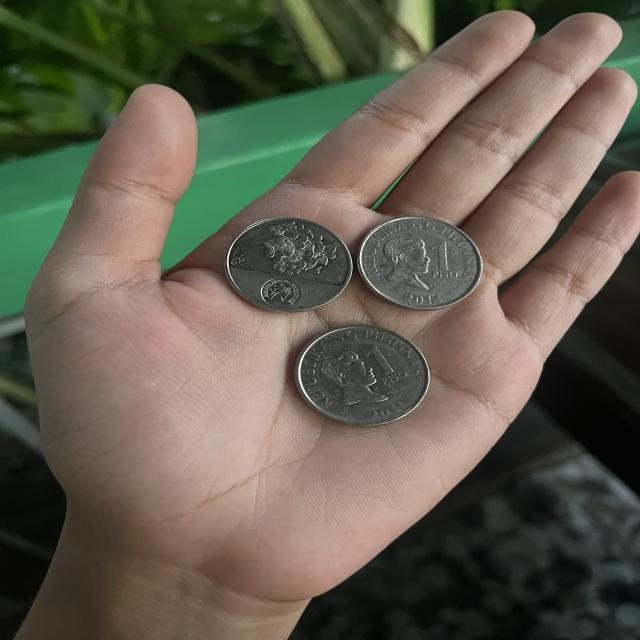1_New_Back: (248, 225, 347, 275)
1_Old_Front: (420, 226, 470, 282), (364, 339, 407, 383)
